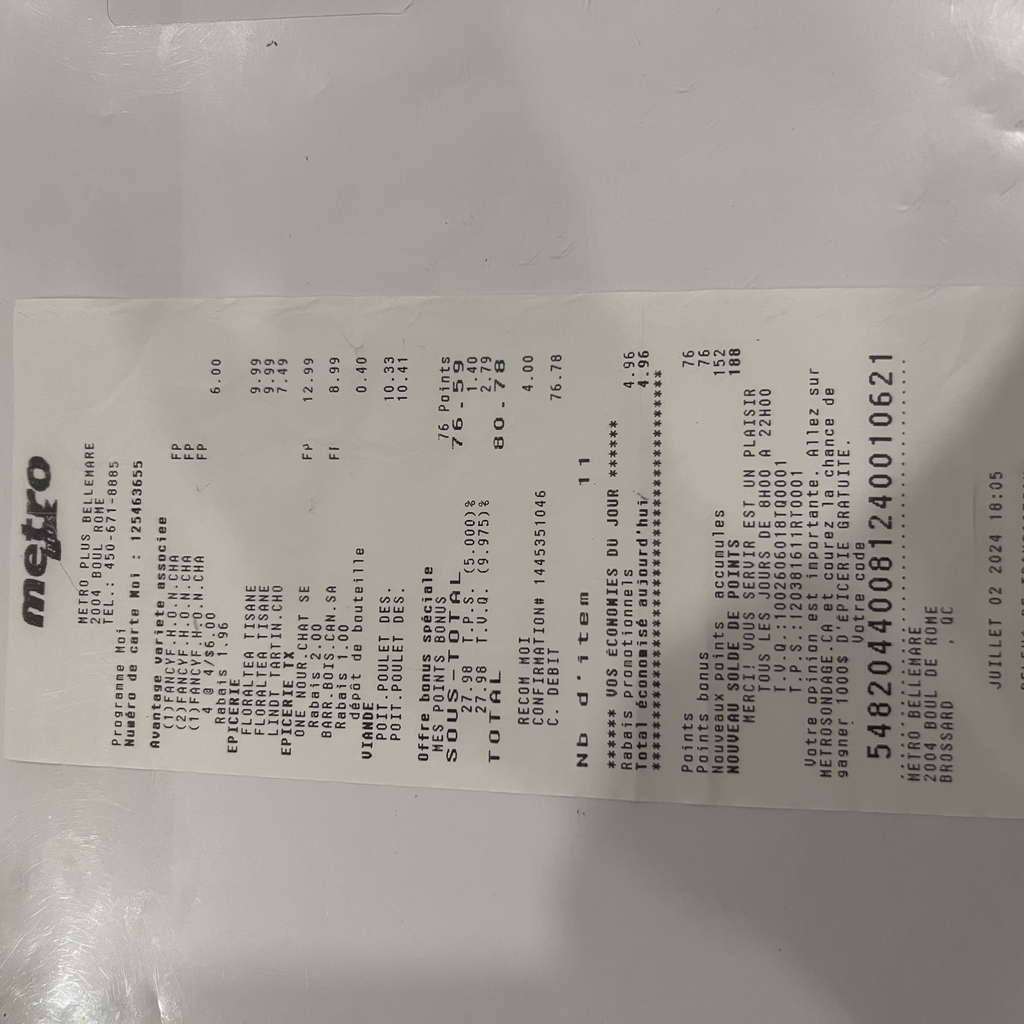recipt: (4, 281, 1024, 821)
